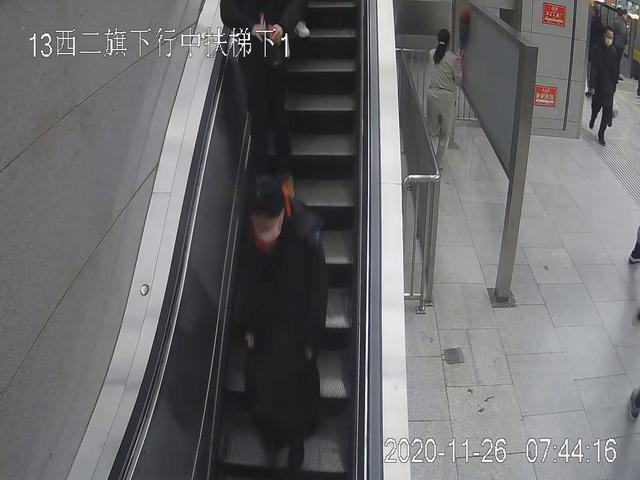person: (235, 179, 327, 478), (421, 28, 461, 166), (588, 27, 619, 146)
